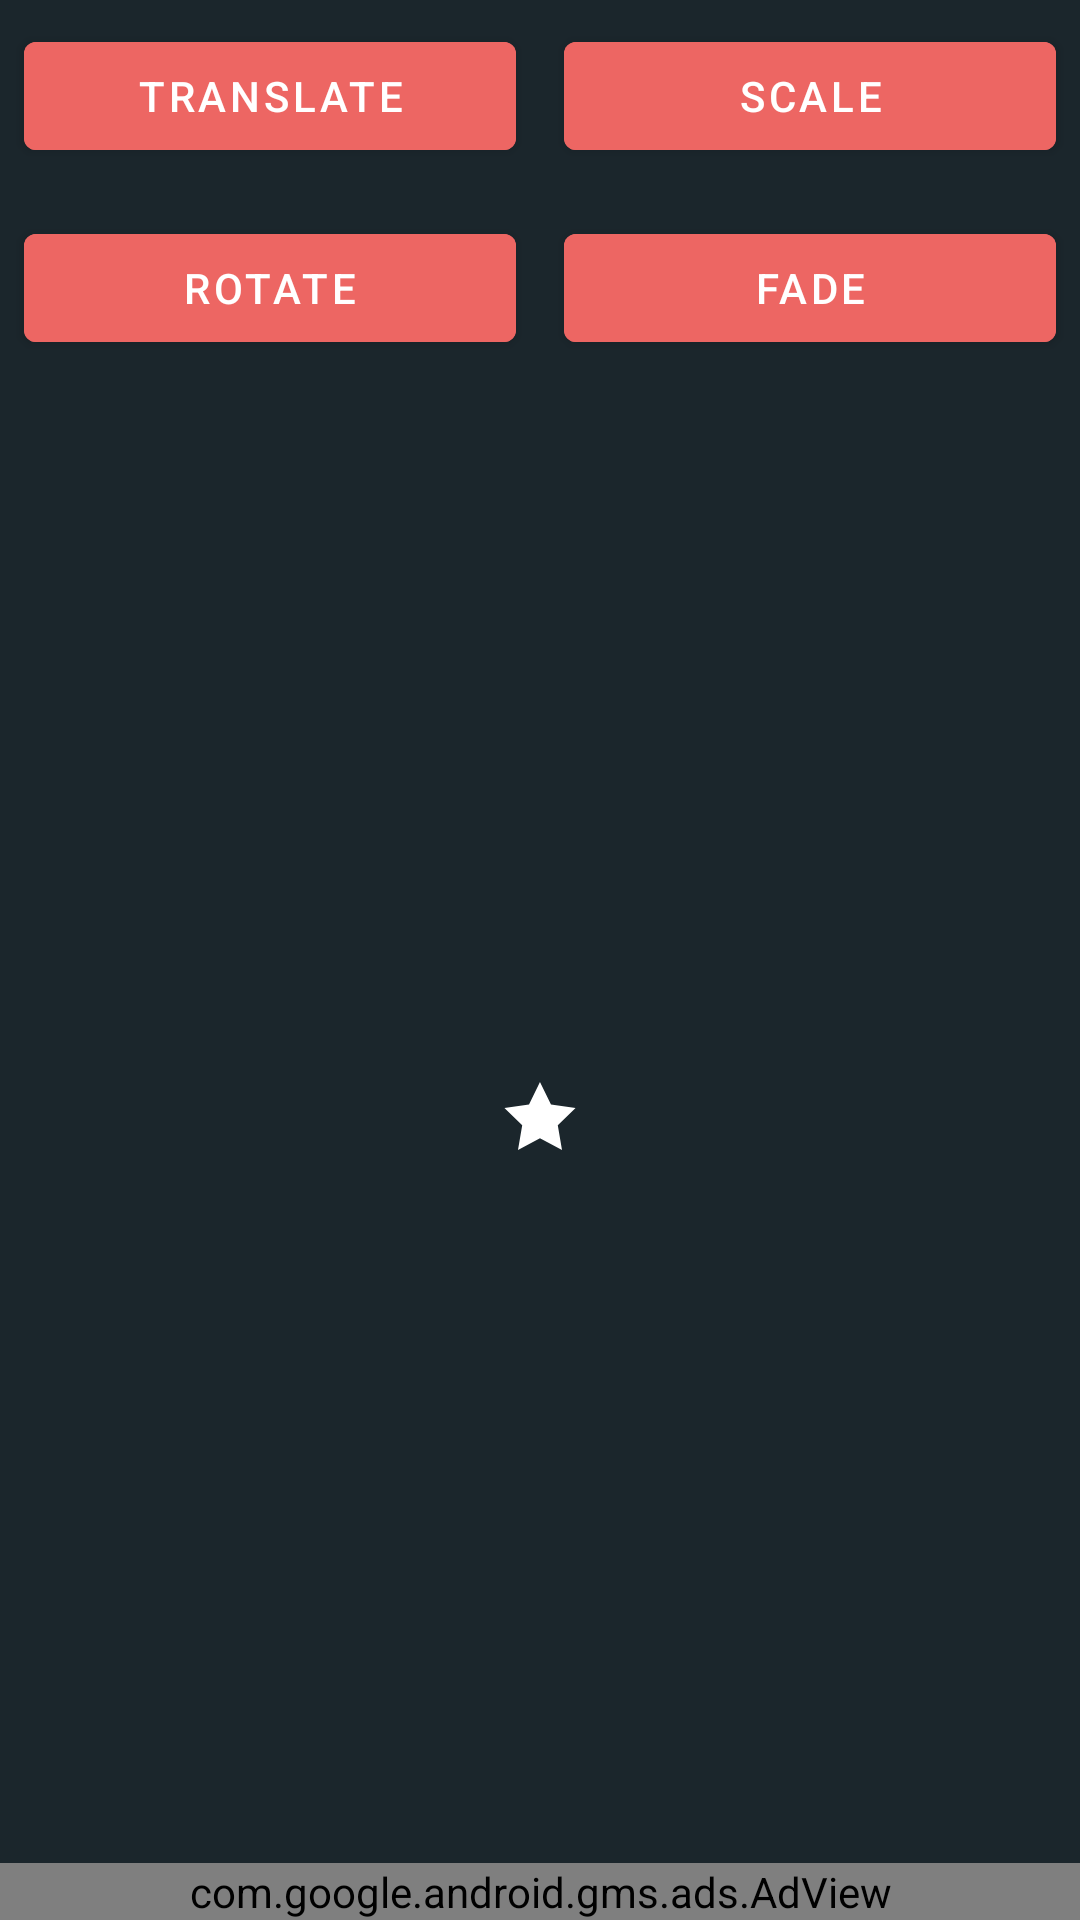

Icon click points for this 1080px x 1920px phone screenshot, format (x,y):
star: (540,1116)
